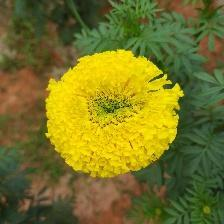marigold: (43, 50, 185, 184)
